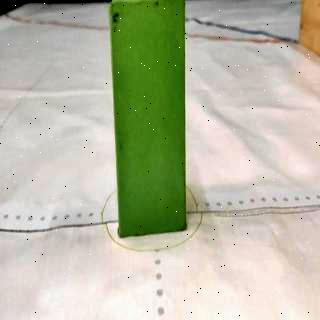greenbox: (109, 1, 186, 236)
